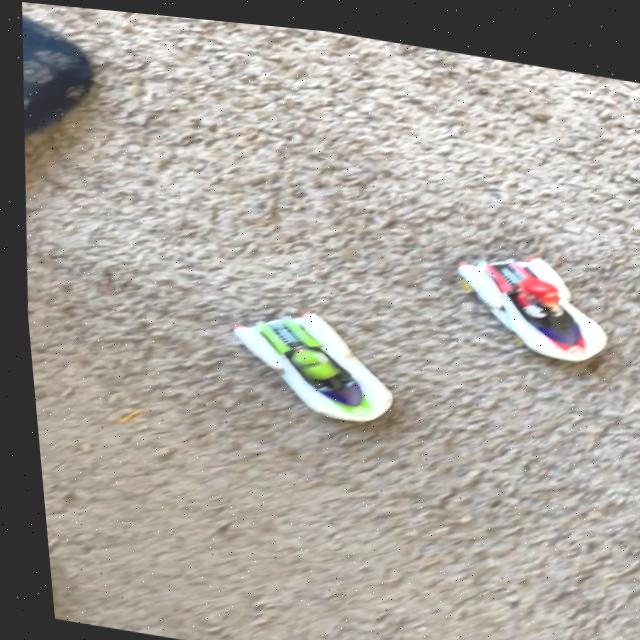mario: (433, 217, 628, 371)
yoshi: (207, 283, 408, 434)
